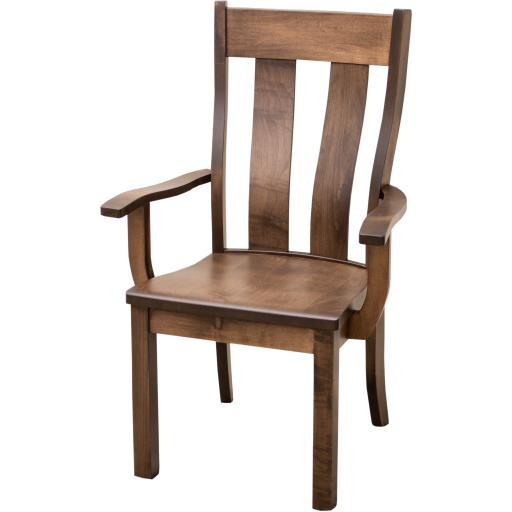chair: (85, 0, 438, 510)
